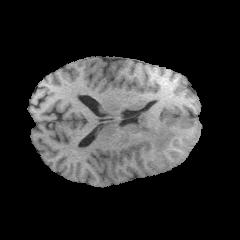glioma: (122, 107, 190, 169)
